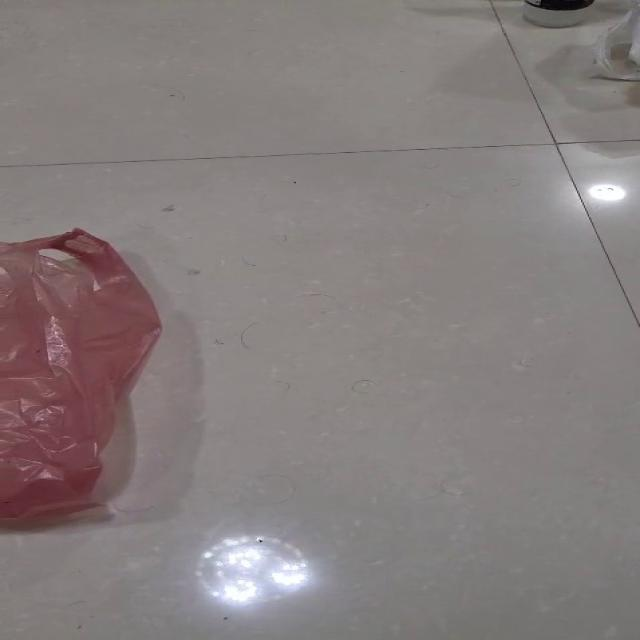plastic: (0, 226, 162, 523)
